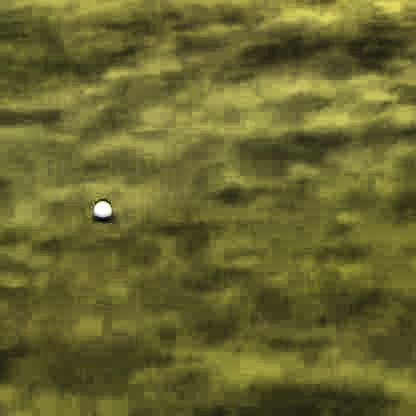golfball: (89, 192, 108, 216)
